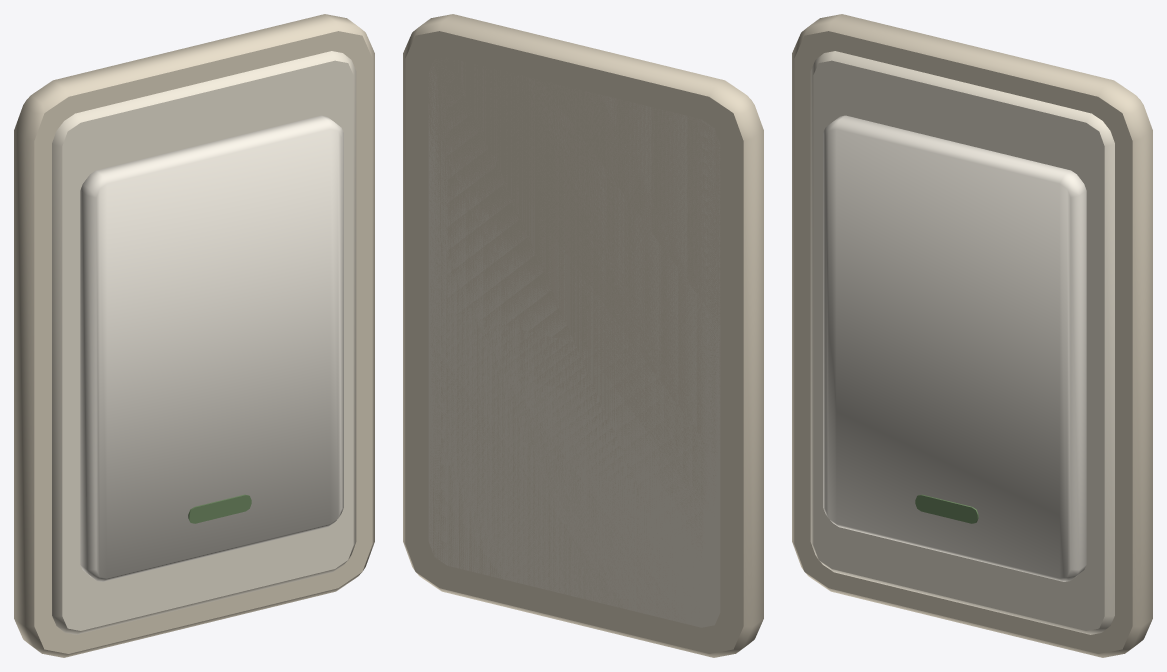
Rendered from lightswitch.glb.
The picture shows the model from 3 angles, left to right: view 1: azimuth 30°, elevation 25°; view 2: azimuth 150°, elevation 25°; view 3: azimuth 330°, elevation 25°; orthographic projection.
Parts seen in each view (by area): view 1: SwitchRocker, SwitchPlate, SwitchLamp; view 2: SwitchPlate; view 3: SwitchRocker, SwitchPlate, SwitchLamp.
Boxes of the visible parts, box(x1,y1,x2,y2) form: SwitchRocker: box(80, 115, 343, 581); SwitchPlate: box(14, 14, 374, 657); SwitchLamp: box(188, 494, 251, 523); SwitchPlate: box(403, 14, 763, 657); SwitchRocker: box(823, 115, 1086, 581); SwitchPlate: box(792, 14, 1152, 657); SwitchLamp: box(915, 494, 978, 523).
Size of the model in its own units: 0.09 by 0.14 by 0.0156.
